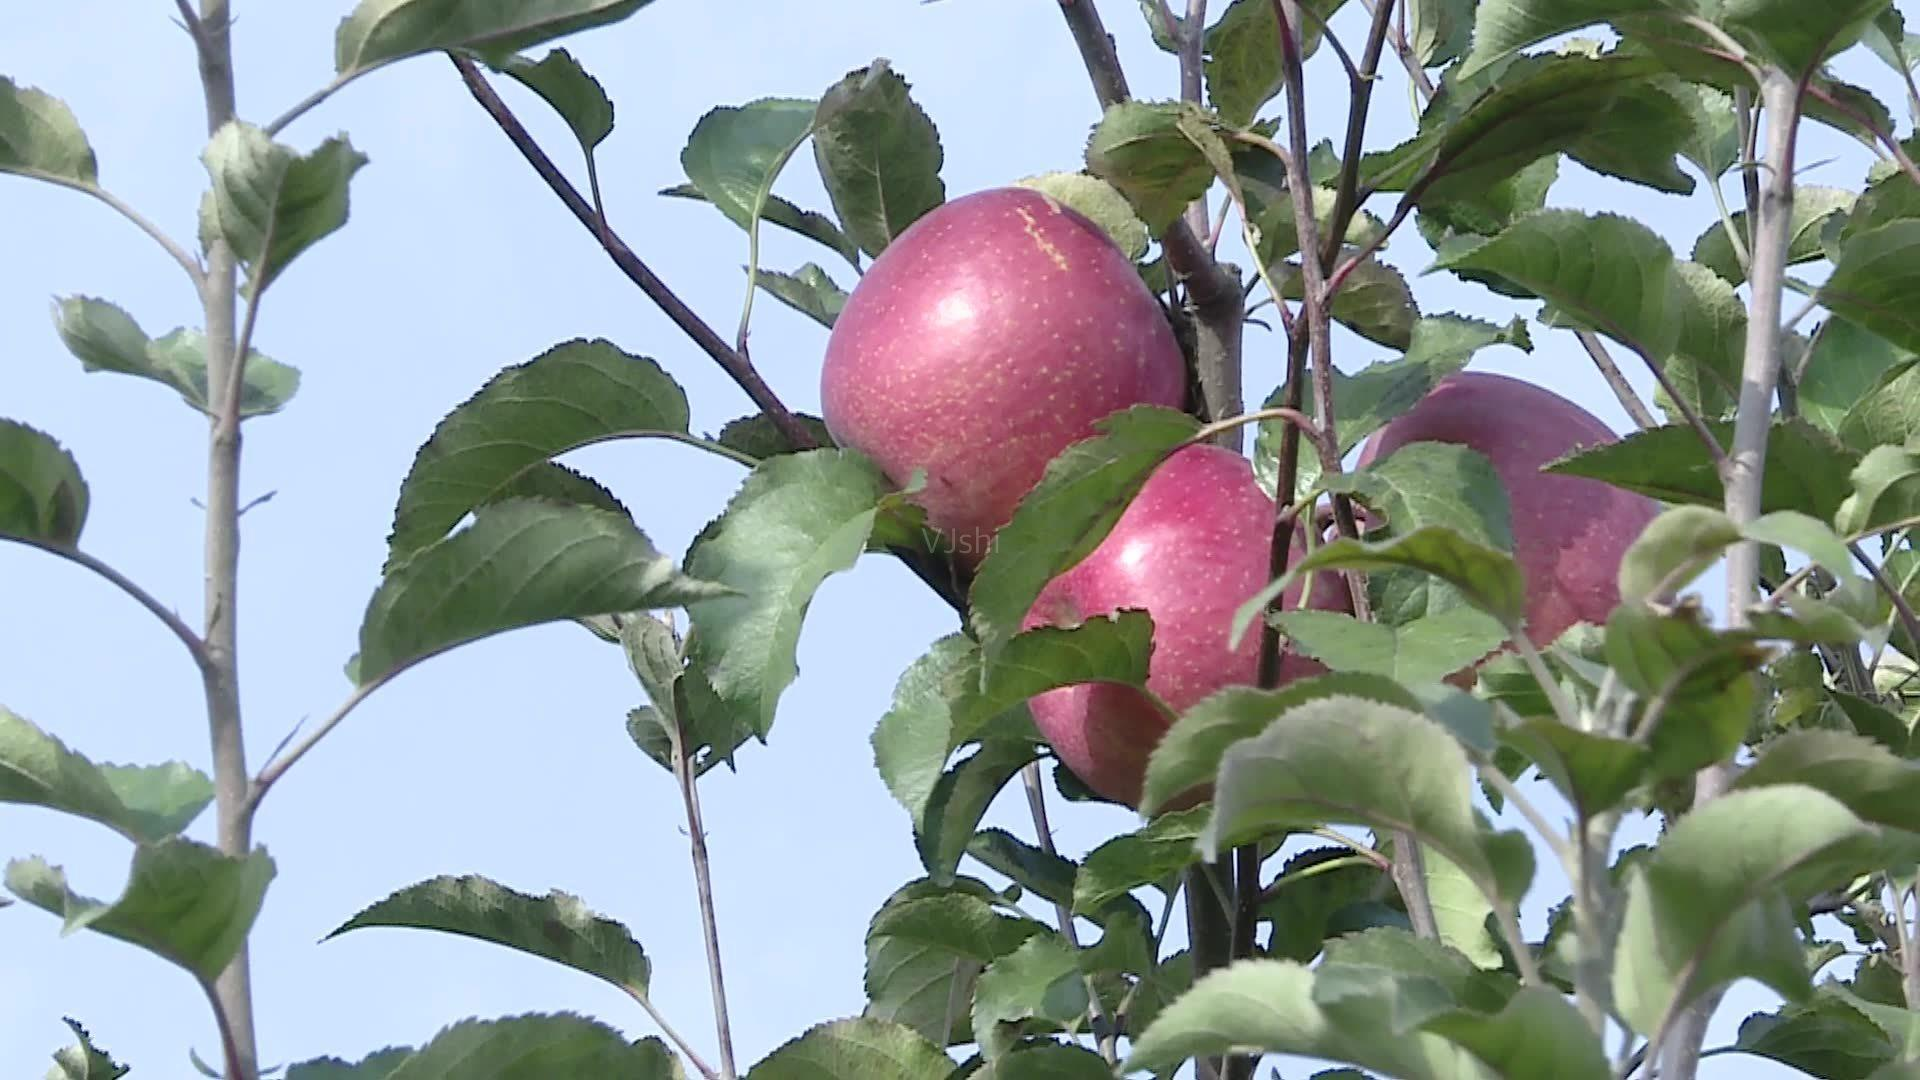apple: (825, 185, 1193, 546), (1007, 439, 1335, 803), (1360, 373, 1647, 642)
